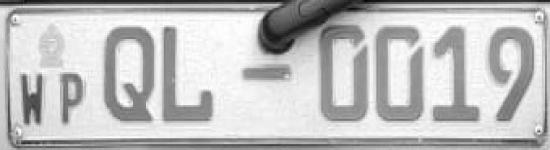-: (241, 60, 298, 88)
0: (316, 18, 372, 129), (373, 17, 428, 128)
1: (426, 13, 484, 130)
9: (485, 17, 538, 128)
L: (159, 15, 227, 132)
P: (51, 68, 92, 130)
Q: (99, 19, 160, 127)
W: (17, 66, 49, 130)
